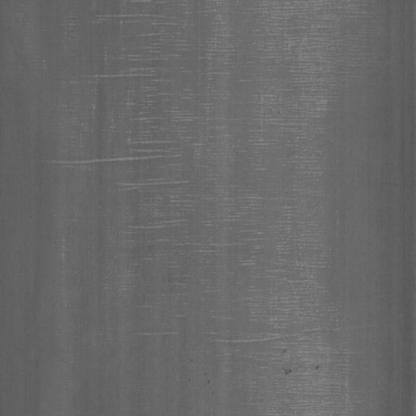waist_folding: (38, 21, 318, 320)
